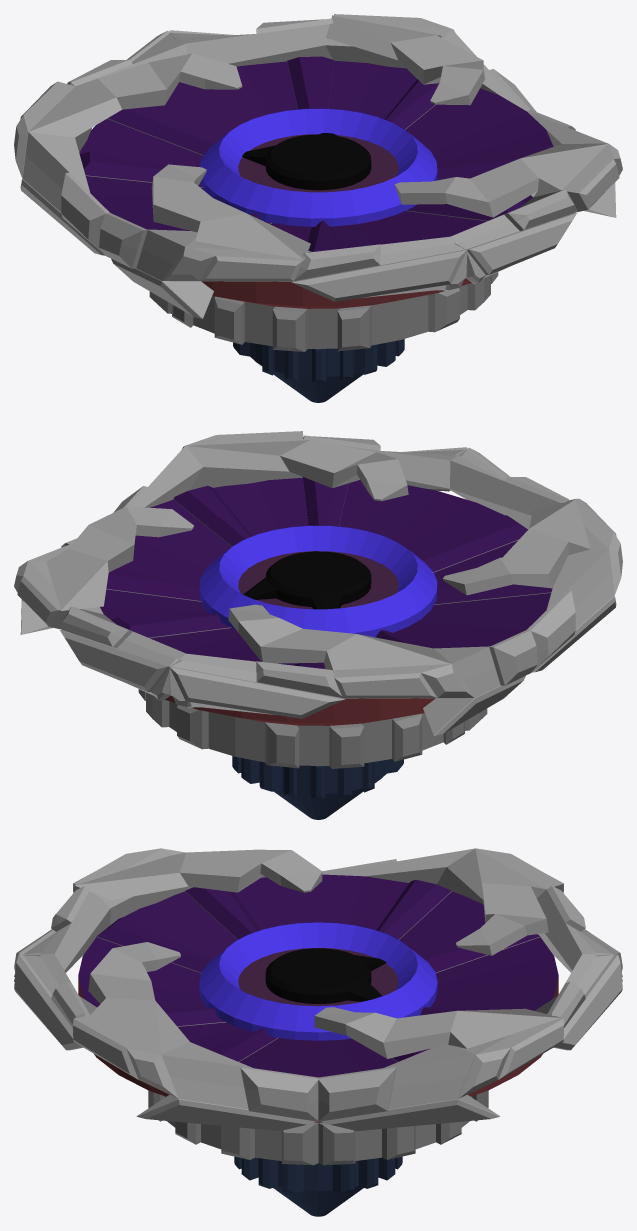
File: Beyblade.glb
3 views of the same model, one above another, from view 1: azimuth 30°, elevation 25°; view 2: azimuth 150°, elevation 25°; view 3: azimuth 270°, elevation 25° (orthographic).
Parts seen in each view (by area): view 1: Cylinder.002; view 2: Cylinder.002; view 3: Cylinder.002.
Part boxes in pixels (x1,y1,x2,y2): Cylinder.002: [14, 14, 622, 402]; Cylinder.002: [14, 431, 622, 819]; Cylinder.002: [14, 848, 622, 1216].
Size of the model in its own units: 4.66 by 2.69 by 5.39.
8 materials, 1 textured.
